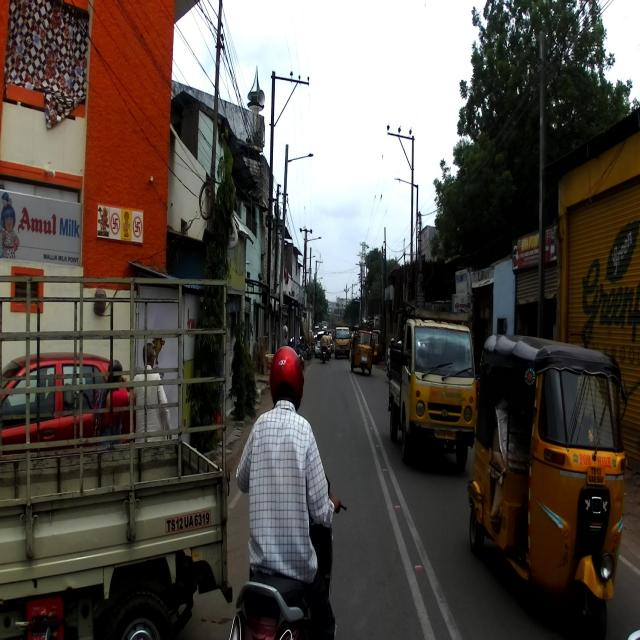autorickshaw: (465, 330, 629, 638), (349, 325, 374, 374)
scooter: (223, 540, 340, 640)
truck: (0, 274, 234, 640), (387, 302, 475, 468), (334, 324, 350, 359)
